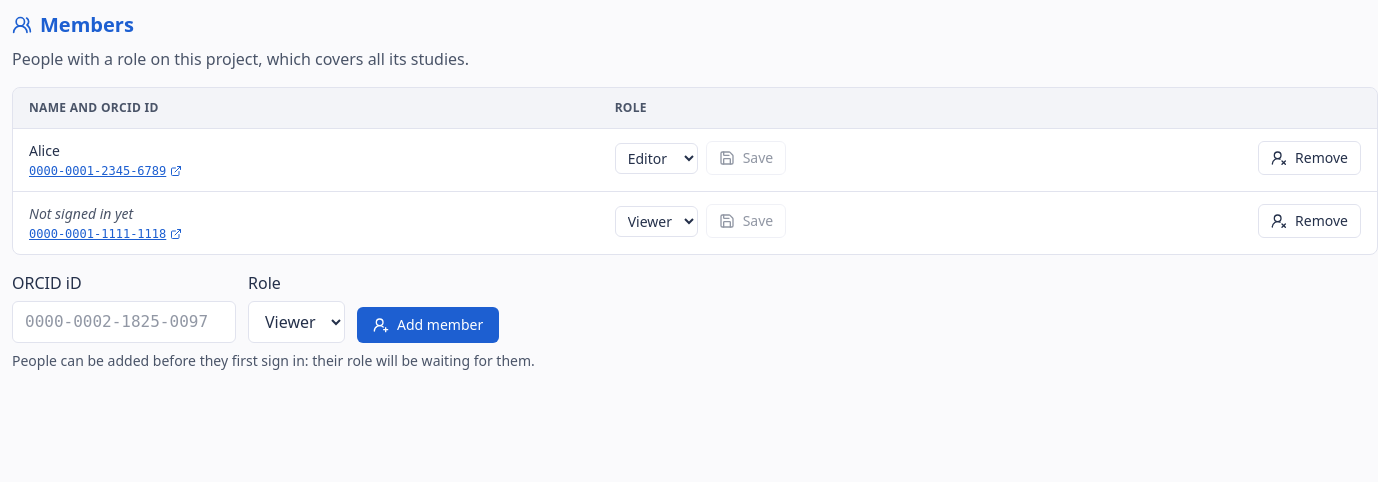
Test: MembersSection › changes and removes roles
Check: the button with aria-label "Save role for Alice" is disabled, box top-left (706, 141), bottom-right (786, 175)
Select "Admin" in the dropdown named "Role for Alice": point(656, 158) top-left (615, 142), bottom-right (698, 174)
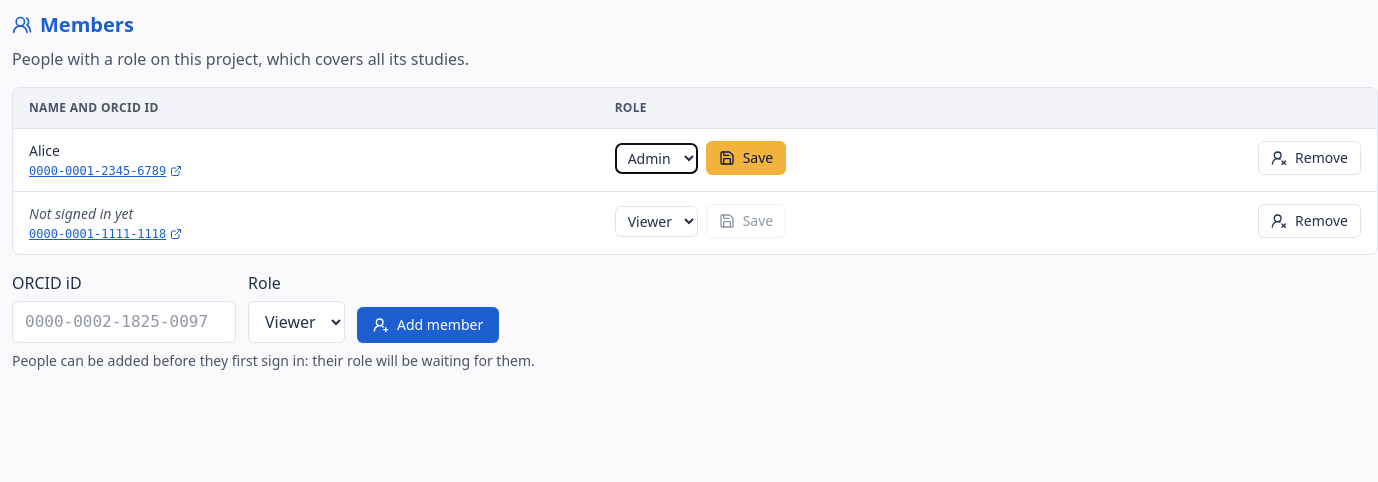
Click the button with aria-label "Save role for Alice": point(746, 158) top-left (706, 141), bottom-right (786, 175)
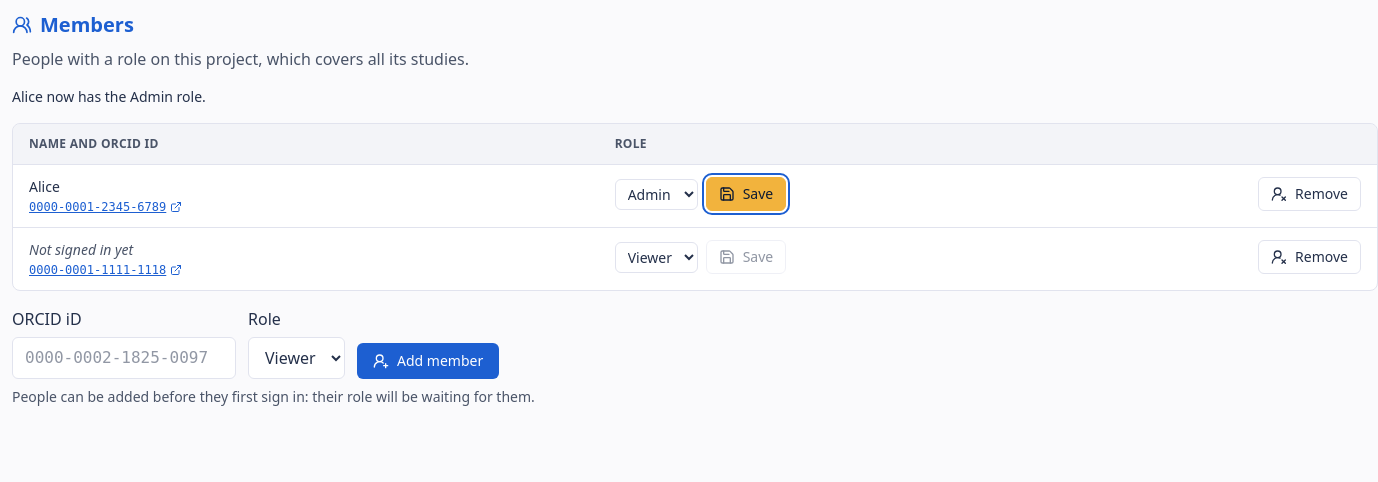
Check: the message reads "Alice now has the Admin role.", box top-left (12, 87), bottom-right (206, 106)
Click the button with aria-label "Remove 0000-0001-1111-1118": point(1310, 257) top-left (1258, 240), bottom-right (1361, 274)
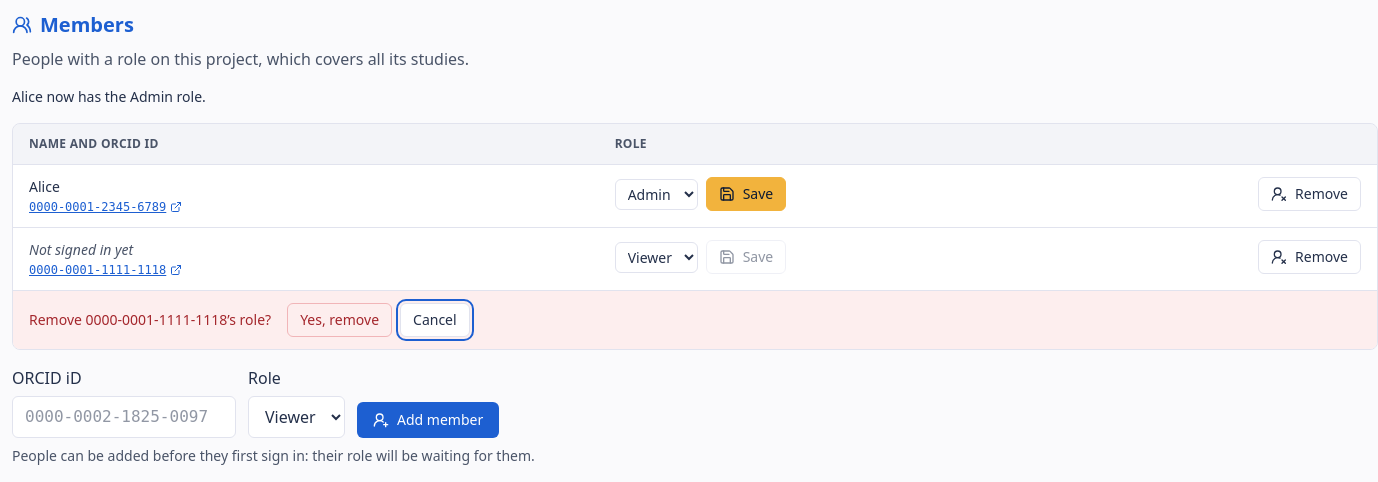
Check: the text "Remove 0000-0001-1111-1118’s role?" is shown, box top-left (29, 310), bottom-right (271, 330)
Click the button "Cancel": point(435, 320) top-left (400, 303), bottom-right (470, 337)
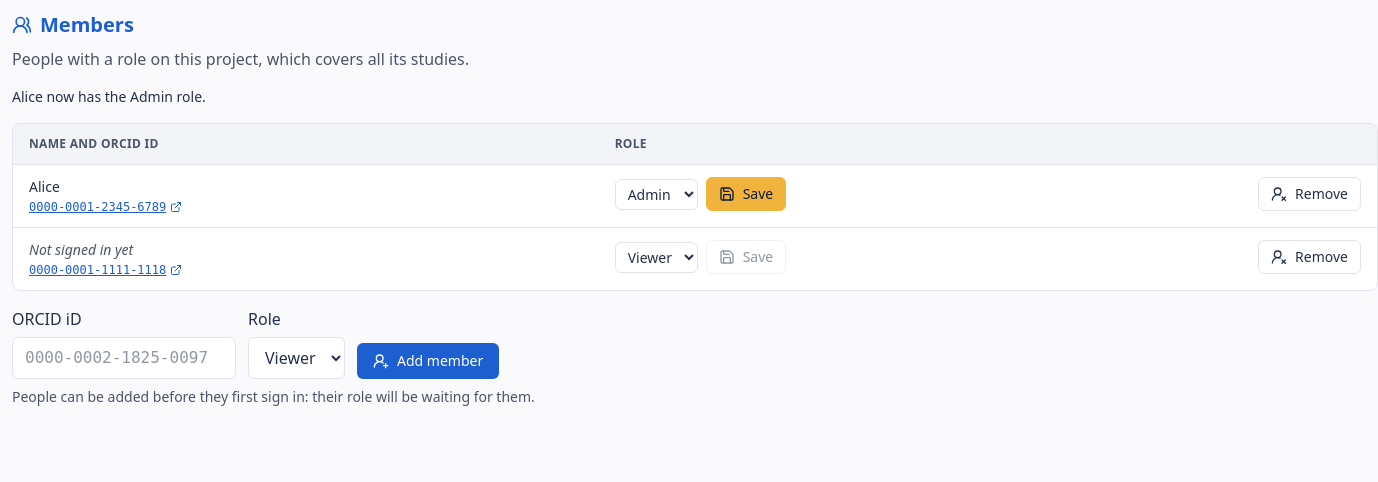
Click the button with aria-label "Remove 0000-0001-1111-1118": point(1310, 257) top-left (1258, 240), bottom-right (1361, 274)
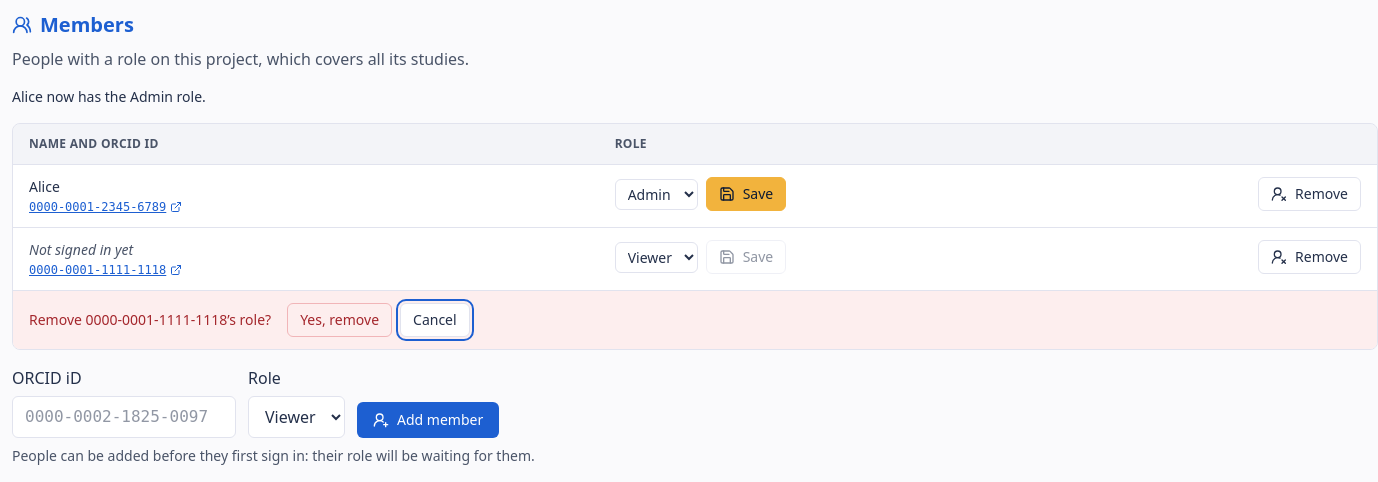
Click the button "Yes, remove": point(340, 320) top-left (287, 303), bottom-right (392, 337)
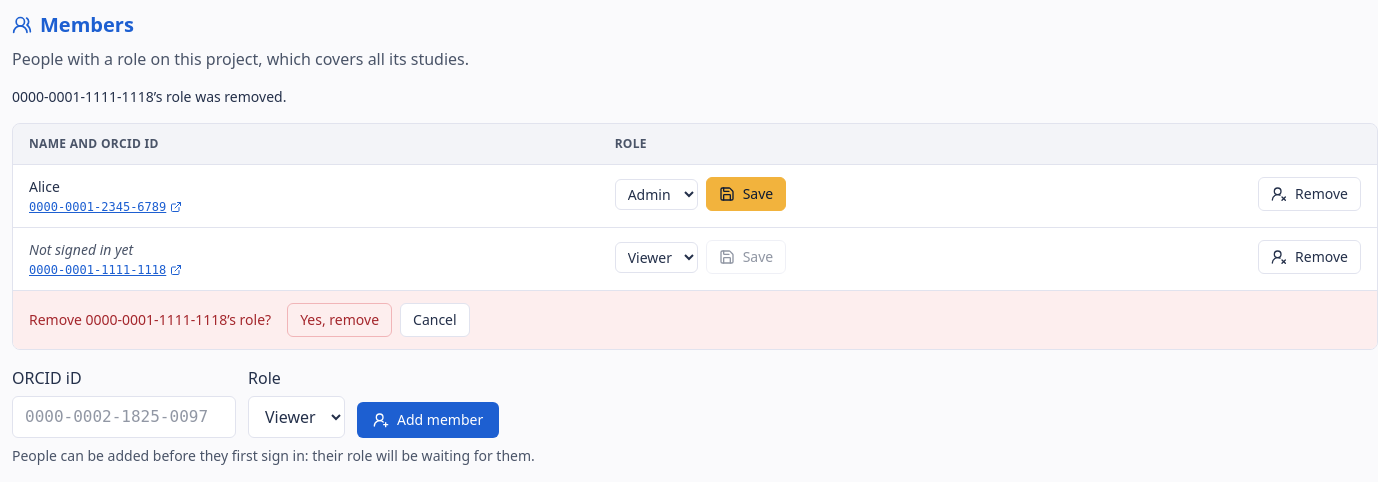
Check: the message reads "0000-0001-1111-1118’s role was removed.", box top-left (12, 87), bottom-right (286, 106)
